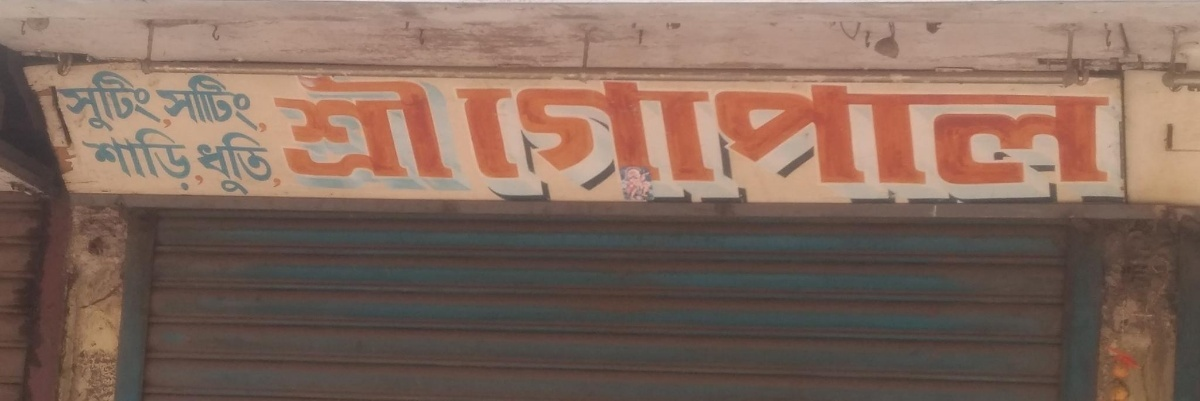text: (465, 63, 480, 209), (481, 63, 496, 209), (497, 63, 512, 209), (513, 63, 528, 209), (529, 63, 544, 209), (545, 63, 560, 209), (561, 63, 576, 209), (577, 63, 592, 209), (593, 63, 608, 209), (609, 63, 624, 209), (625, 63, 640, 209), (641, 63, 656, 209), (657, 63, 672, 209), (673, 63, 688, 209), (689, 63, 704, 209), (705, 63, 720, 209), (721, 63, 736, 209), (737, 63, 752, 209), (753, 63, 768, 209), (769, 63, 784, 209), (785, 63, 800, 209), (801, 63, 816, 209), (817, 63, 832, 209), (833, 63, 848, 209), (849, 63, 864, 209), (865, 63, 880, 209), (881, 63, 896, 209), (897, 63, 912, 209), (913, 63, 928, 209), (929, 63, 944, 209), (945, 63, 960, 209), (961, 63, 976, 209), (977, 63, 992, 209), (993, 63, 1008, 209), (1009, 63, 1024, 209), (1025, 63, 1040, 209), (1041, 63, 1056, 209), (1057, 63, 1072, 209), (1073, 63, 1088, 209), (1089, 63, 1104, 209), (1105, 63, 1120, 209), (273, 65, 288, 184), (289, 65, 304, 184), (305, 65, 320, 184), (321, 65, 336, 184), (337, 65, 352, 184), (353, 65, 368, 184), (369, 65, 384, 184), (385, 65, 400, 184), (401, 65, 416, 184), (417, 65, 432, 184), (433, 65, 448, 184), (261, 65, 272, 184), (65, 63, 80, 135), (81, 63, 96, 135), (97, 63, 112, 135), (113, 63, 128, 135), (129, 63, 144, 135), (145, 63, 160, 135), (161, 63, 176, 135), (97, 129, 112, 197), (113, 129, 128, 197), (129, 129, 144, 197), (145, 129, 160, 197), (161, 129, 176, 197), (177, 129, 192, 197), (193, 132, 208, 199), (209, 132, 224, 199), (225, 132, 240, 199), (241, 132, 256, 199), (257, 132, 272, 199), (273, 132, 288, 199), (82, 129, 96, 197), (193, 129, 207, 197), (449, 65, 457, 184), (161, 73, 176, 136), (177, 73, 192, 136), (193, 73, 208, 136), (209, 73, 224, 136), (225, 73, 240, 136), (241, 73, 256, 136), (146, 73, 160, 136), (458, 63, 464, 209), (53, 63, 64, 135), (257, 73, 268, 136)
